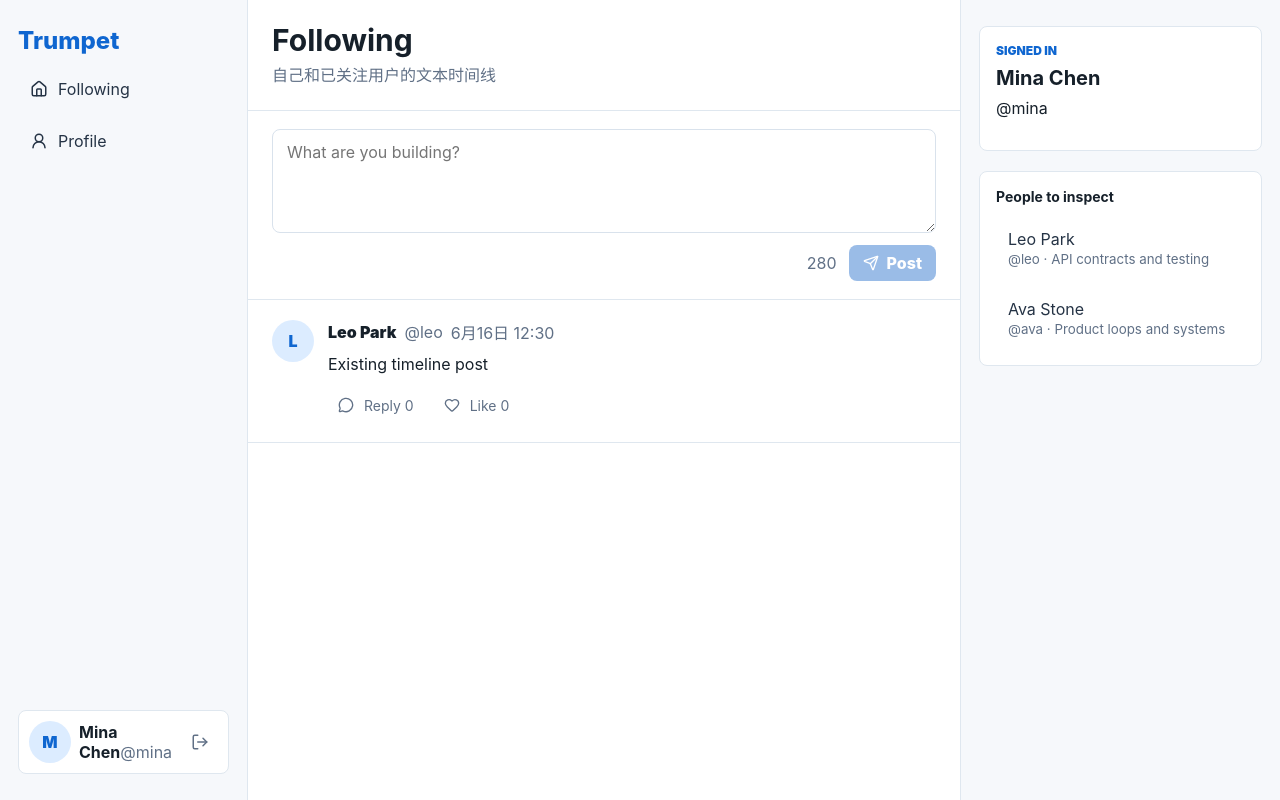
App timeline interactions › creates a post and prepends it to the timeline
Type "A new post from the composer" into the text box with placeholder "What are you building?" at point(604, 181), box [272,129,936,233]
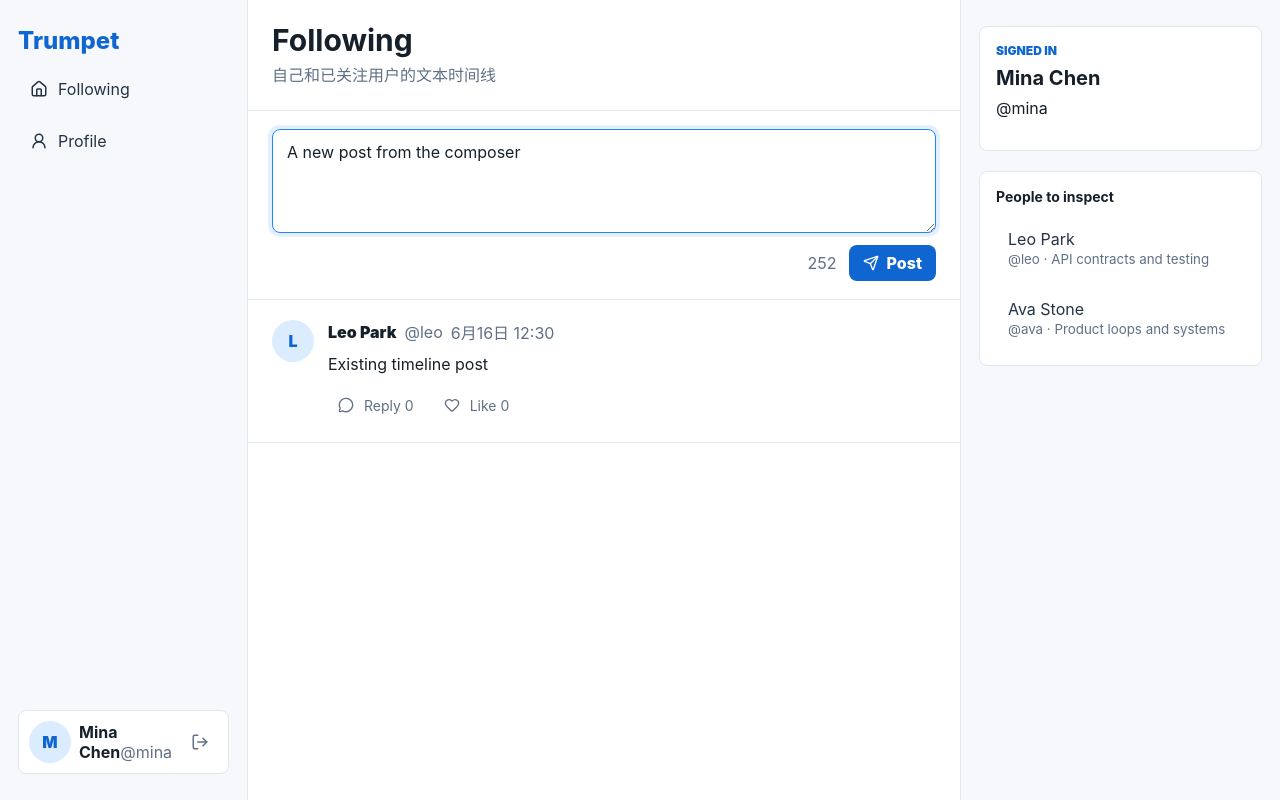
Click the button "Post" at point(892, 263), box [848,245,936,281]
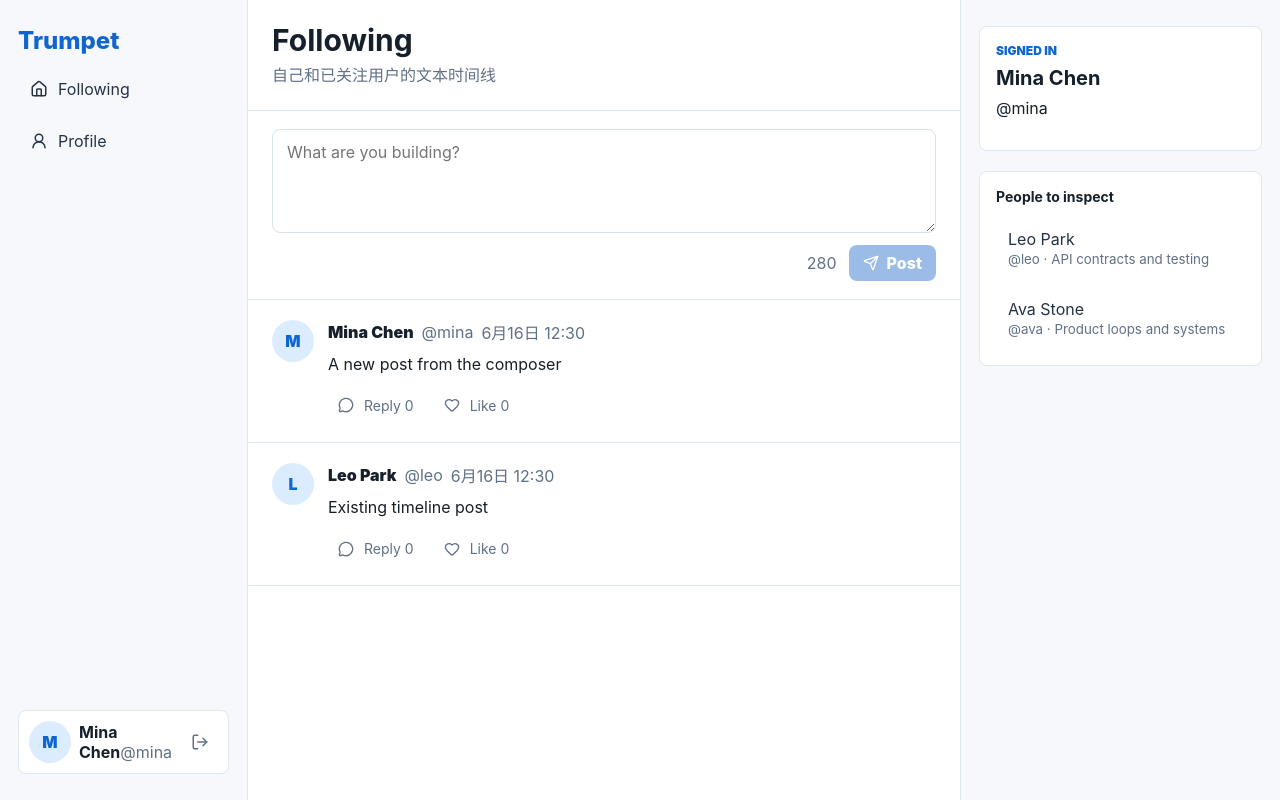
Expected: the text "A new post from the composer" is shown, [328,354,562,374]
Expected: the text box with placeholder "What are you building?" is empty, [272,129,936,233]
